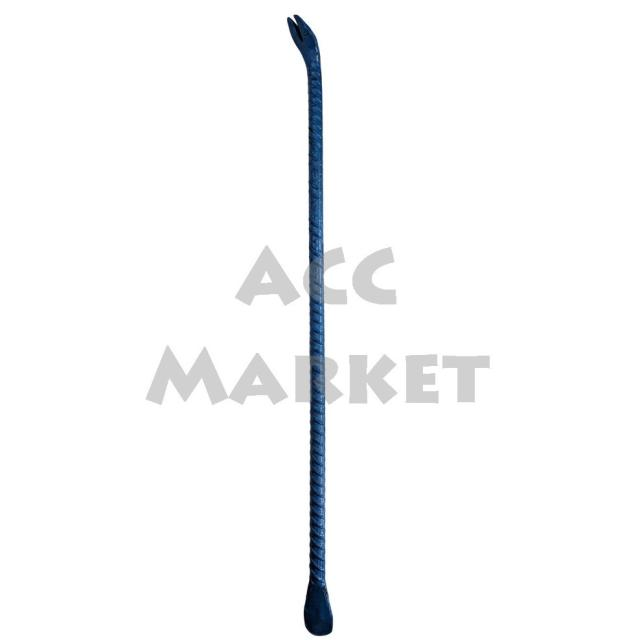Linggis: (285, 13, 345, 639)
